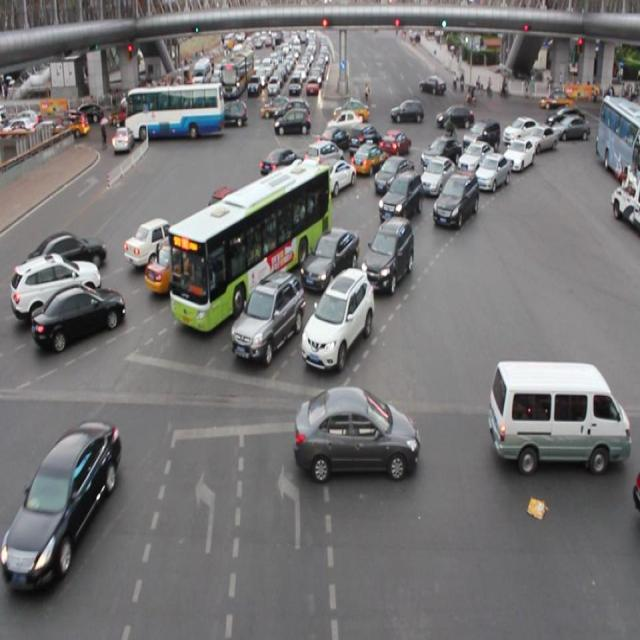car: (9, 420, 120, 586), (295, 386, 418, 479), (299, 266, 372, 368), (33, 282, 124, 349), (232, 273, 302, 360), (11, 253, 100, 318), (362, 217, 412, 293), (145, 241, 218, 292), (21, 231, 106, 273), (303, 227, 357, 290), (212, 215, 278, 263), (125, 217, 190, 265), (267, 186, 326, 232), (432, 170, 478, 228), (207, 188, 263, 232), (377, 169, 420, 223), (264, 160, 315, 205), (312, 158, 354, 195), (374, 155, 414, 193), (474, 152, 509, 194), (456, 140, 493, 178), (259, 146, 301, 178), (421, 137, 461, 170), (350, 140, 387, 175), (420, 156, 452, 195), (462, 120, 498, 154), (514, 124, 556, 152), (348, 124, 380, 158), (502, 137, 532, 172), (314, 127, 349, 156), (503, 115, 538, 142), (378, 130, 411, 157)
truck: (489, 359, 629, 465), (307, 140, 343, 172)
van: (170, 166, 329, 332)
